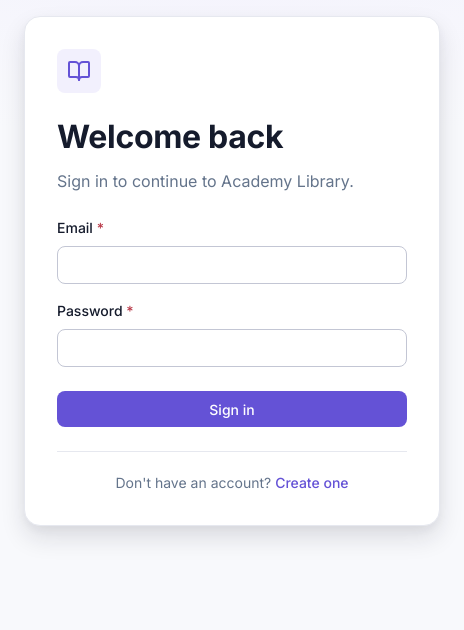
Test: LoginPage › shows a generic error for invalid credentials, naming neither field specifically
Type "nobody@example.com" into the field labelled "Email *" at (232, 265), box [70,247,394,283]
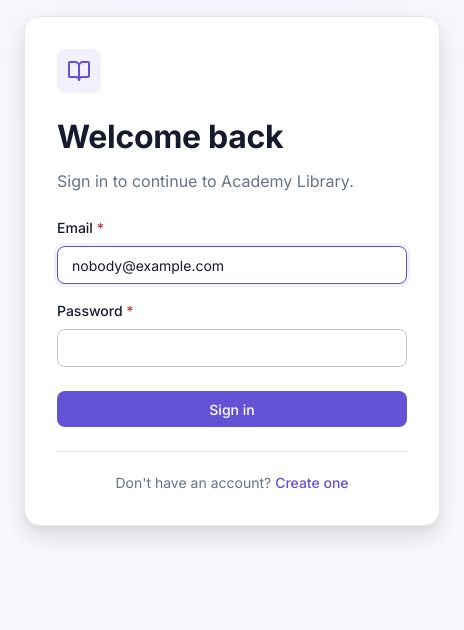
Type "wrong-password" into the password field labelled "Password *" at (232, 348), box [70,330,394,366]
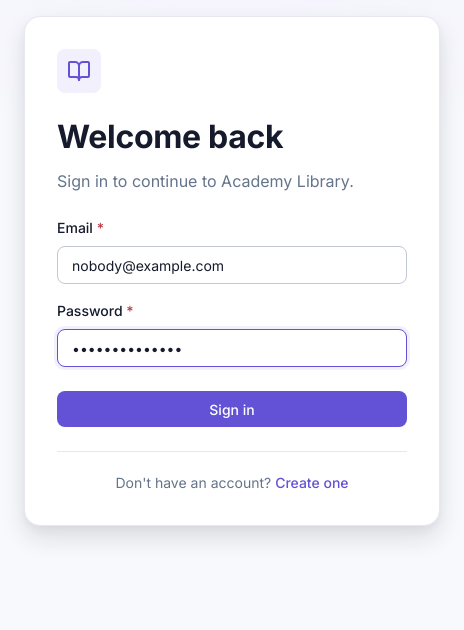
Click the button "Sign in" at (232, 409), box [57,391,407,427]
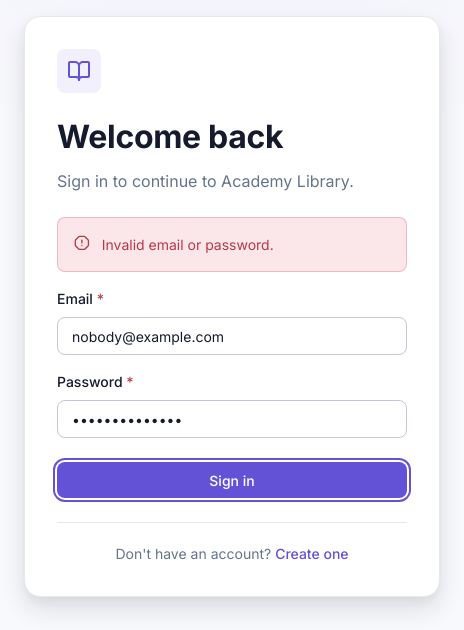
Expected: the button "Sign in" is shown, [57,462,407,498]
Result: the message reads "Invalid email or password." at [102,236,274,253]
